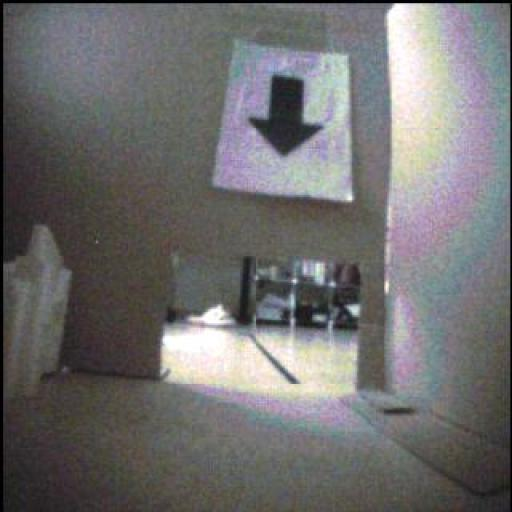arrow: (251, 76, 324, 156)
